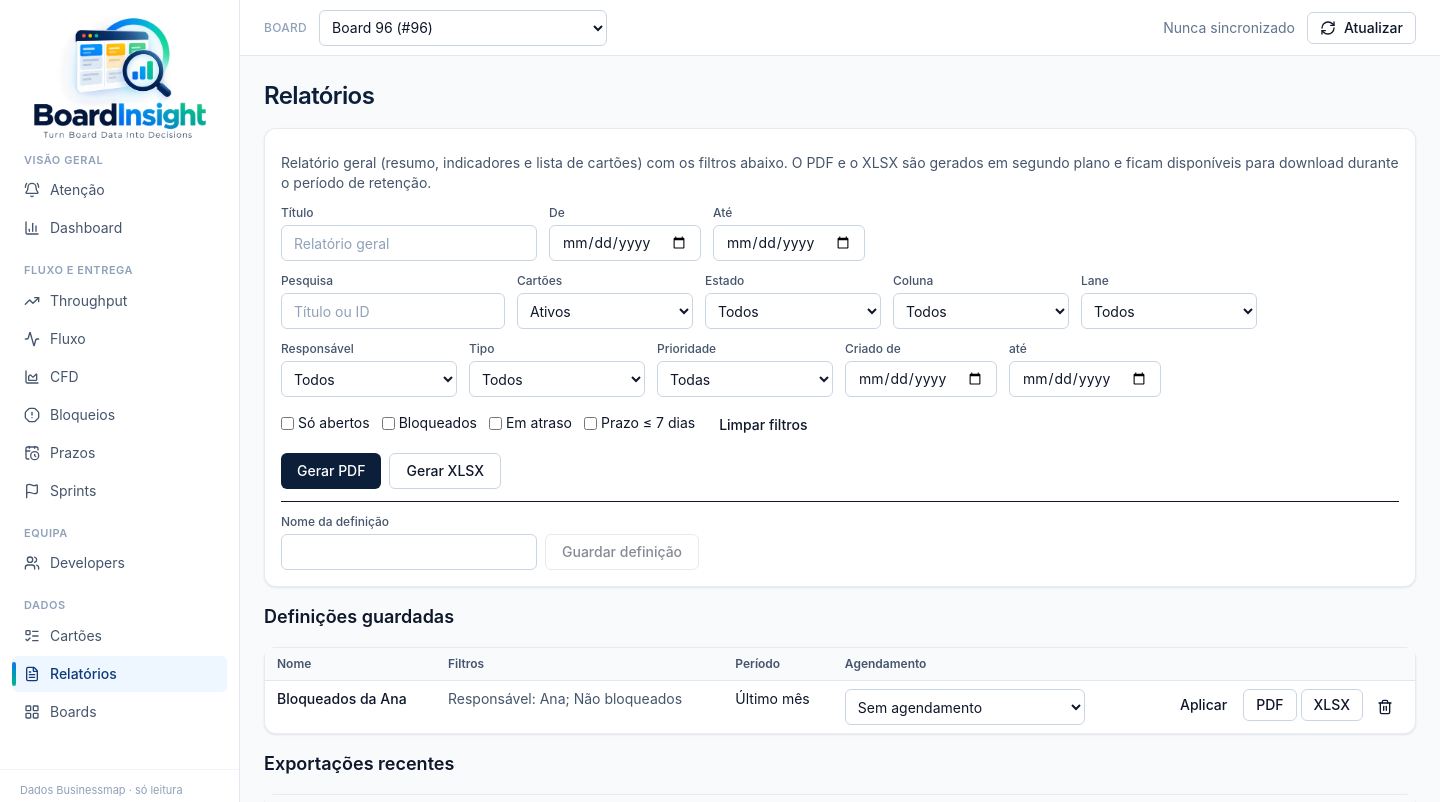
agenda uma definição para o fim de cada sprint
Select "PDF e XLSX no fim de cada sprint" in the dropdown named "Agendamento de Bloqueados da Ana" at [965, 707], box x1=845 y1=689 x2=1085 y2=725
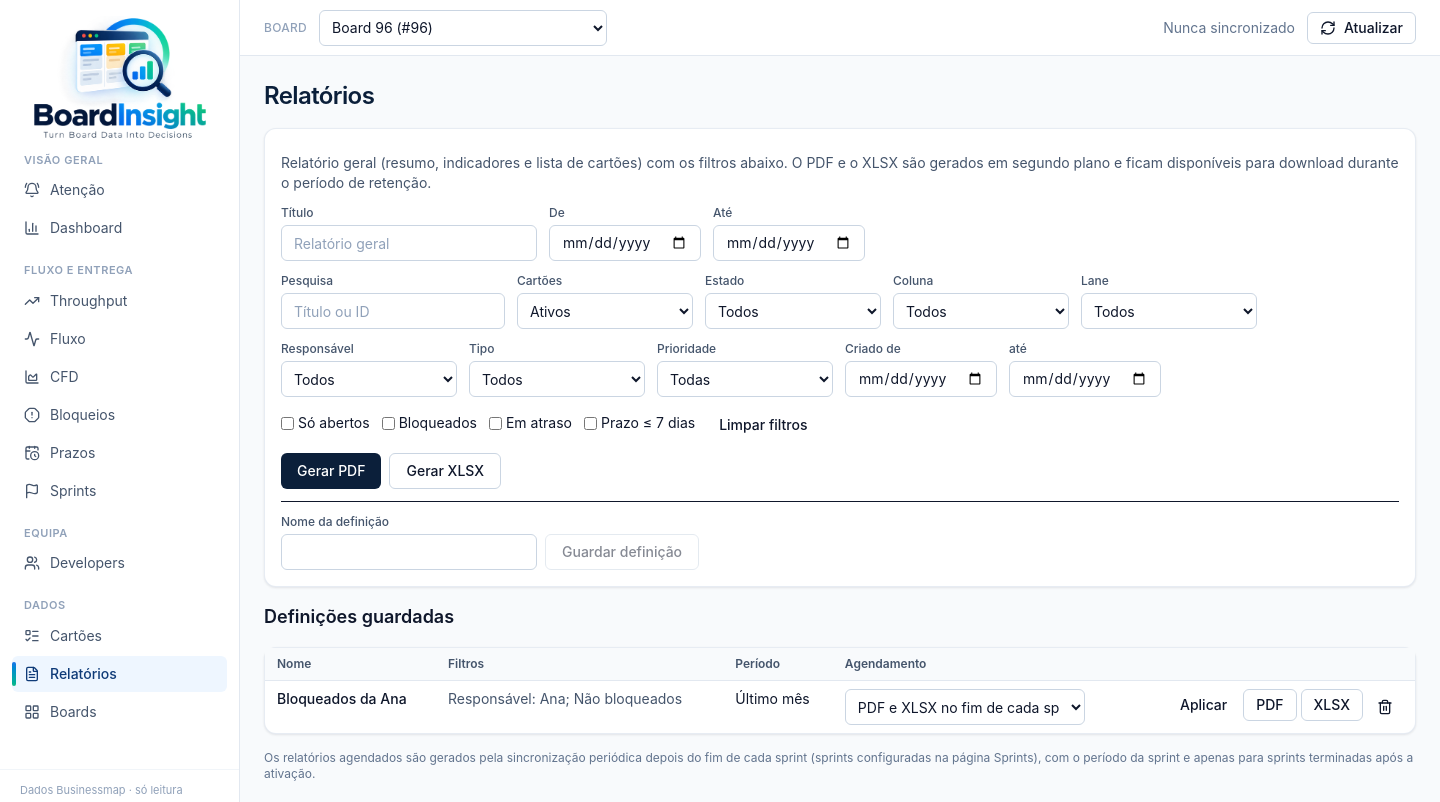
Expected: the text "gerados pela sincronização periódica" is shown, x1=264 y1=750 x2=1413 y2=781
